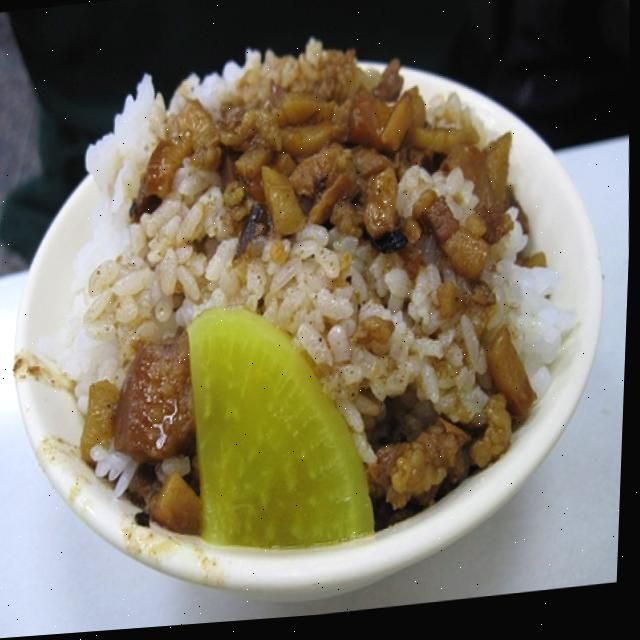猪肉菜式: (23, 1, 611, 624)
